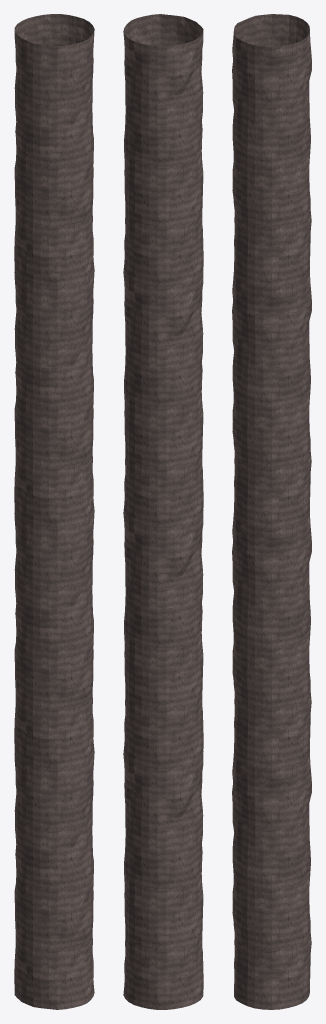
Rendered from Circle8Walls.obj.
3 views of the same model, side by side, from view 1: azimuth 30°, elevation 25°; view 2: azimuth 210°, elevation 25°; view 3: azimuth 270°, elevation 25° (orthographic).
Parts seen in each view (by area): view 1: Circle8Walls; view 2: Circle8Walls; view 3: Circle8Walls.
Part boxes in pixels (left/top/right/bottom): Circle8Walls: left=14, top=14, right=94, bottom=1009; Circle8Walls: left=123, top=14, right=203, bottom=1009; Circle8Walls: left=232, top=14, right=311, bottom=1009.
Bounding box in the file's own units: 35.68 × 480 × 36.13.
1 material, 1 textured.
